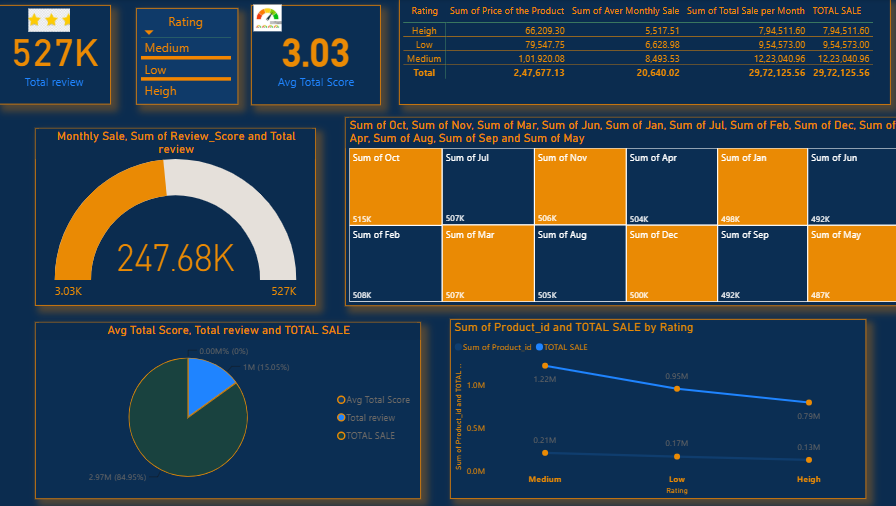

Layout of this report page (visuals, bound fields, positions):
{"tool":"powerbi","page":{"name":"Action","canvas":[1280,720],"ordinal":1},"visuals":[{"type":"card","fields":{"Values":["Dax Table.Total review"]},"box":[0,8.4,159.6,141.1],"z":0},{"type":"card","fields":{"Values":["Dax Table.Avg Total Score"]},"box":[358.6,8.5,184.3,141.7],"z":1000},{"type":"pieChart","fields":{"Y":["Dax Table.Avg Total Score","Dax Table.Total review","Dax Table.TOTAL SALE"]},"box":[52.4,469.1,547.1,250.9],"z":2000},{"type":"pivotTable","fields":{"Rows":["Table1_2.Rating"],"Values":["Sum(Table1_2. Price of  the  Product )","Sum(Table1_2.Aver Monthly Sale)","Sum(Table1_2.Total Sale per Month)","Dax Table.TOTAL SALE"]},"box":[568.3,0,697.3,150.2],"z":3000},{"type":"lineChart","fields":{"Category":["Table1_2.Rating"],"Y":["Sum(Table1_2.Product_id)","Dax Table.TOTAL SALE"]},"box":[640.6,464.9,589.6,255.1],"z":4000},{"type":"treemap","fields":{"Values":["Sum(Table1_2.Oct)","Sum(Table1_2.Nov)","Sum(Table1_2.Mar)","Sum(Table1_2.Jun)","Sum(Table1_2.Jan)","Sum(Table1_2.Jul)","Sum(Table1_2.Feb)","Sum(Table1_2.Dec)","Sum(Table1_2.Apr)","Sum(Table1_2.Aug)","Sum(Table1_2.Sep)","Sum(Table1_2.May)"]},"box":[491.8,167.2,788,267.9],"z":5000},{"type":"image","box":[0,8.5,144.6,42.5],"z":6000},{"type":"image","box":[282,2.8,199.8,48.2],"z":7000},{"type":"gauge","fields":{"MaxValue":["Dax Table.Total review"],"MinValue":["Sum(Table1_2.Review_Score)"],"Y":["Dax Table.Monthly Sale"]},"box":[52.4,182.8,398.3,252.3],"z":8000},{"type":"tableEx","fields":{"Values":["Table1_2.Rating"]},"box":[194.2,2.8,144.6,137.5],"z":9000}]}

Visuals, with their boxes in screenshot pixels (x1, y1, x2, y2), scaled from the page's 1280x720 canvas onto the 896x506 screenshot:
card - Dax Table.Total review: [0, 6, 112, 105]
card - Dax Table.Avg Total Score: [251, 6, 380, 106]
pieChart - Dax Table.Avg Total Score x Dax Table.Total review: [37, 330, 420, 505]
pivotTable - Table1_2.Rating x Sum(Table1_2. Price of  the  Product ): [398, 0, 886, 106]
lineChart - Table1_2.Rating x Sum(Table1_2.Product_id): [448, 327, 861, 505]
treemap - Sum(Table1_2.Oct) x Sum(Table1_2.Nov): [344, 118, 895, 306]
image: [0, 6, 101, 36]
image: [197, 2, 337, 36]
gauge - Dax Table.Total review x Sum(Table1_2.Review_Score): [37, 128, 315, 306]
tableEx - Table1_2.Rating: [136, 2, 237, 99]
